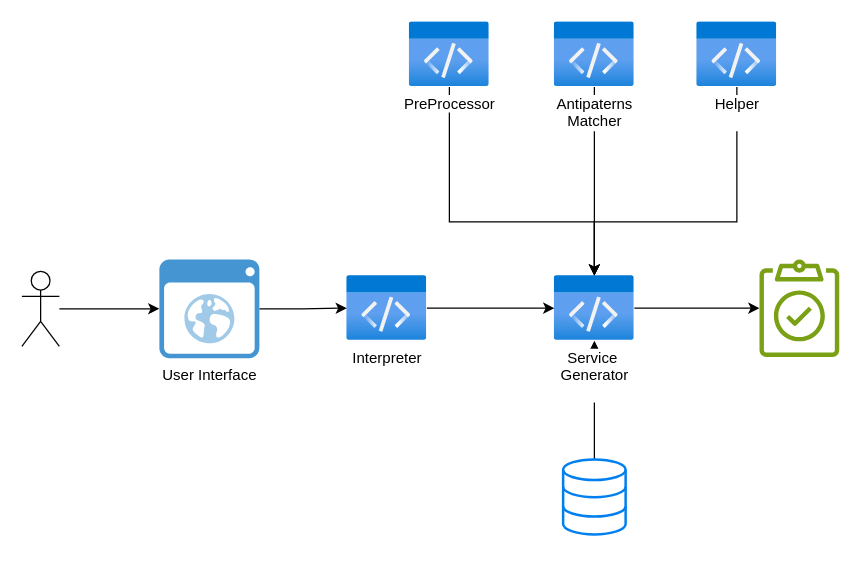
Some shapes in this 861 by 581 pixel diagram are drawn without their labels. Each missing label, with the box of its shape:
Actor: (21, 270, 59, 346)
Logs: (561, 458, 626, 535)
Report: (759, 259, 839, 356)
